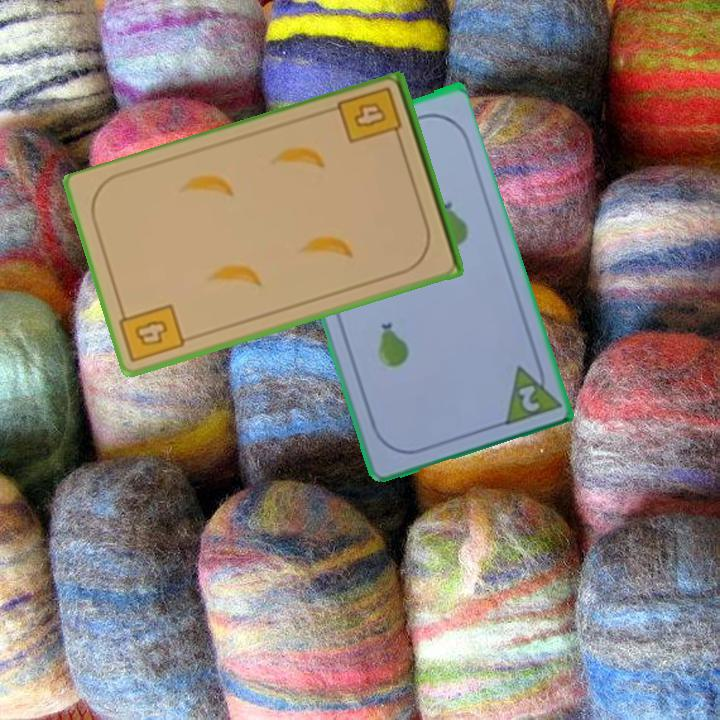2p: (498, 354, 561, 429)
4b: (115, 301, 189, 365), (335, 83, 406, 148)
